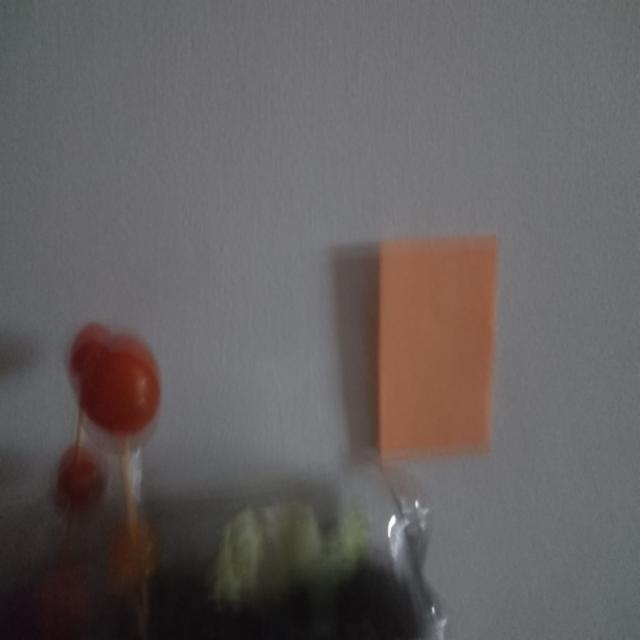card: (377, 236, 497, 457)
fruit_maturation: (110, 519, 156, 590)
fully_grown: (81, 339, 160, 436), (55, 446, 105, 511), (69, 323, 109, 381)
